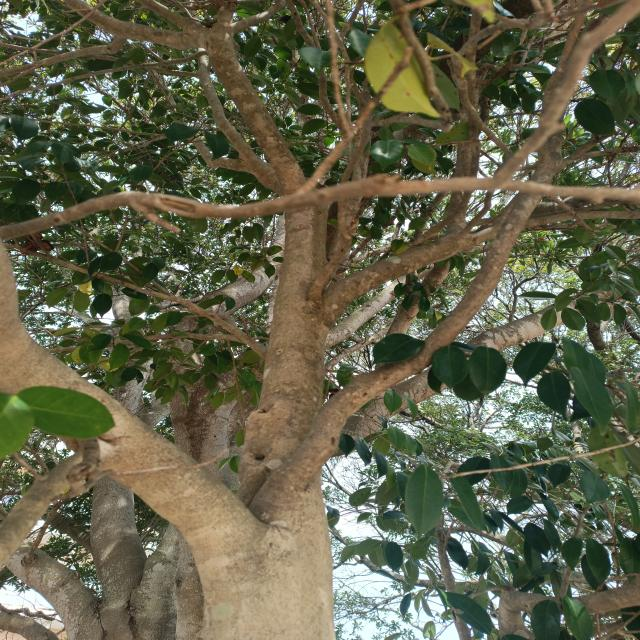Branch: (7, 241, 246, 549), (244, 173, 328, 485)
Twig: (252, 159, 539, 531), (63, 0, 308, 190), (5, 174, 635, 239), (321, 210, 640, 316)
